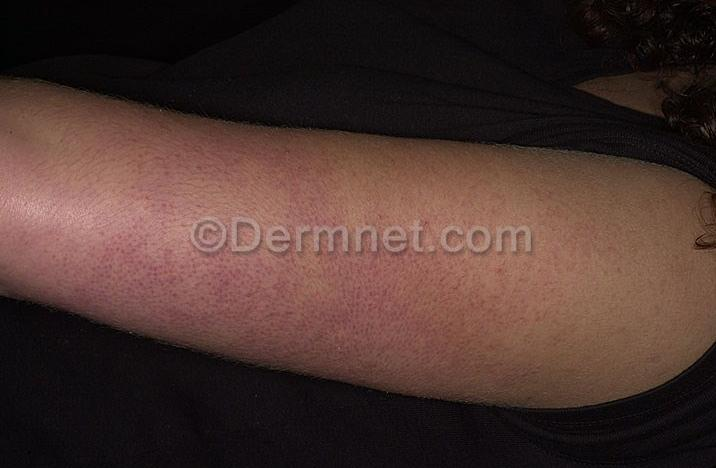Eritema 2: (42, 119, 510, 396)
edema 1: (89, 118, 576, 396)
